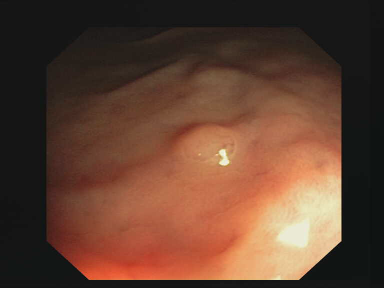polyp: (169, 106, 244, 178)
